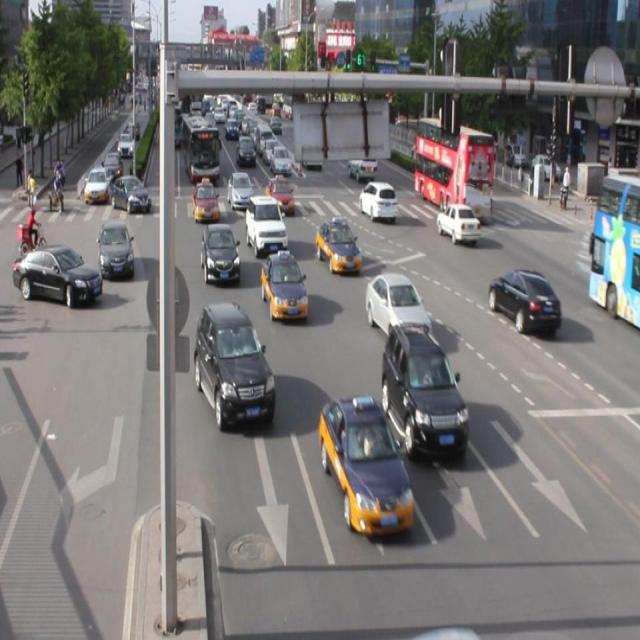car: (320, 394, 414, 534), (381, 322, 468, 458), (196, 302, 275, 430), (364, 271, 430, 344), (486, 268, 560, 332), (261, 250, 308, 322), (314, 219, 362, 274), (245, 195, 287, 257), (202, 222, 240, 285), (98, 219, 134, 280), (436, 201, 480, 243)
van: (587, 174, 640, 330)
